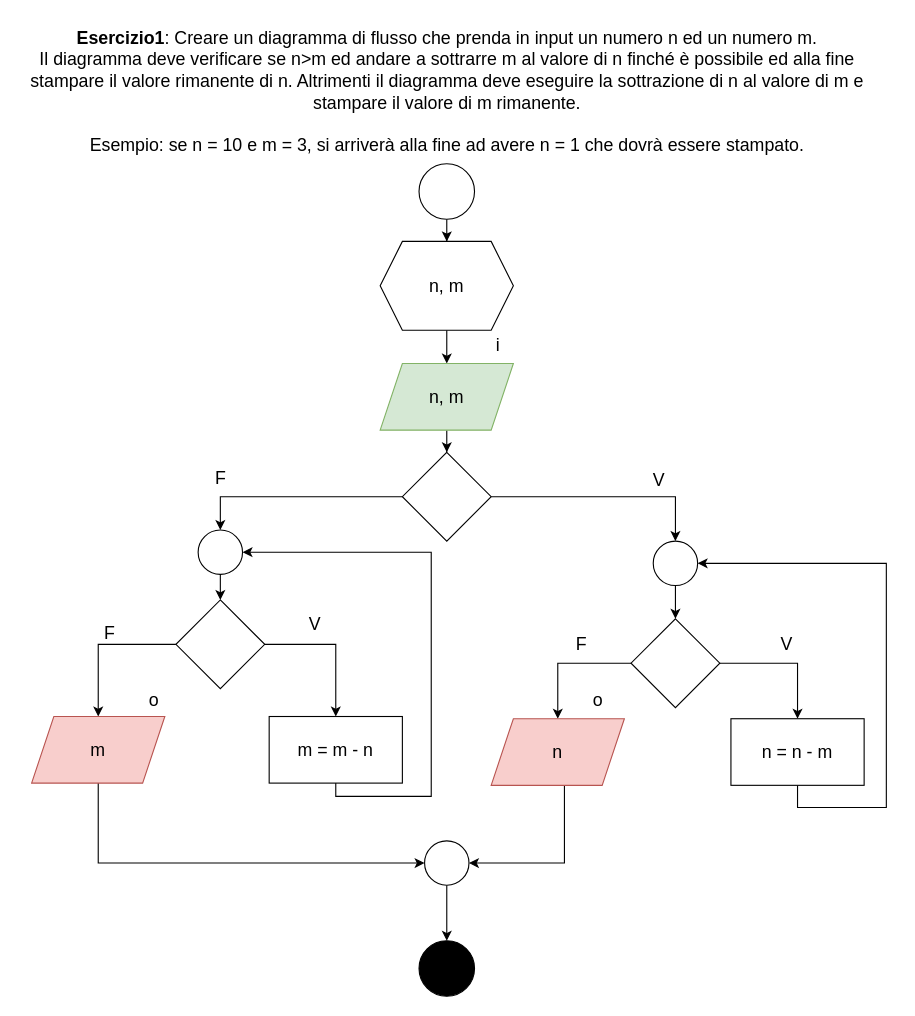
This 915x1016 diagram has some shape labels left out. The shapes that lost their labels are listed below. From the top down, each one's box as (x1, y1, x2, y2) in pixels, then its label:
(401, 451, 491, 541): n > m
(175, 599, 265, 689): m >= n
(630, 618, 720, 708): n >= m
